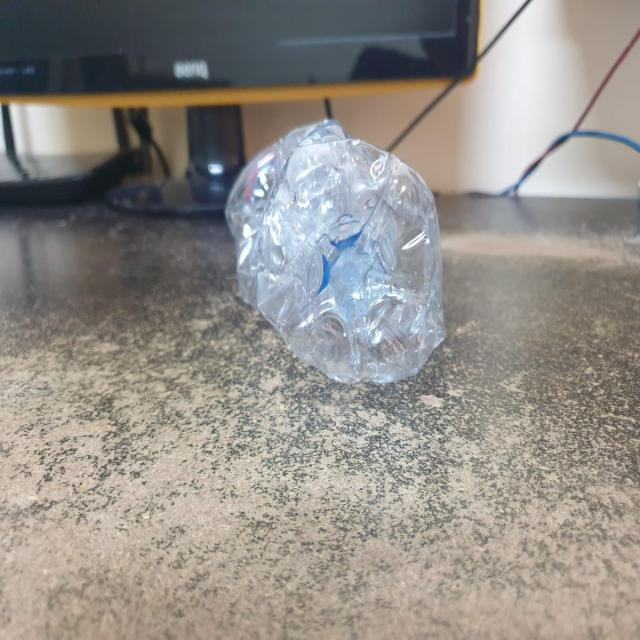bottle: (228, 121, 451, 390)
